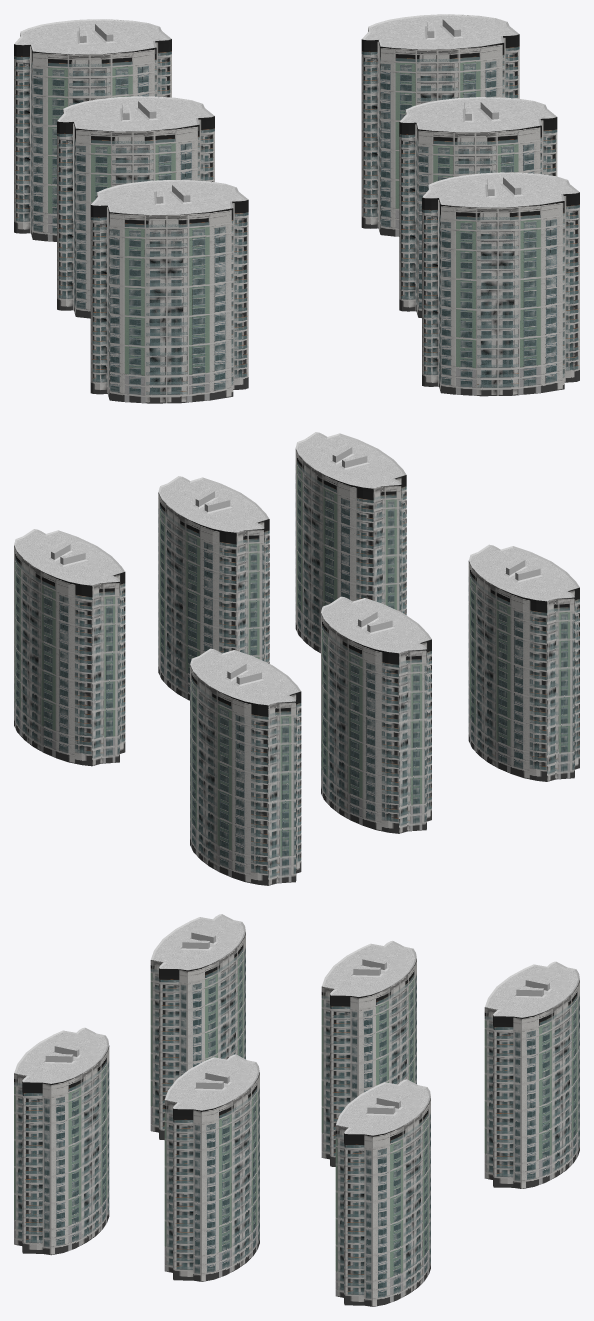
The model's file is xiaoqu2.gltf.
3 renders of one model, top to bottom at view 1: azimuth 30°, elevation 25°; view 2: azimuth 150°, elevation 25°; view 3: azimuth 270°, elevation 25°, orthographic. The views are drawn at different scales.
Visible parts, largest first — view 1: Line3117640, Line3117641, Line3117637, Line3117636, Line3117638, Line3117639; view 2: Line3117636, Line3117640, Line3117637, Line3117638, Line3117639, Line3117641; view 3: Line3117637, Line3117636, Line3117641, Line3117639, Line3117640, Line3117638.
Boxes of the visible parts, box(x1,y1,x2,y2) form: Line3117640: box(90, 180, 248, 403); Line3117641: box(422, 172, 579, 396); Line3117637: box(361, 14, 519, 236); Line3117636: box(14, 19, 171, 241); Line3117638: box(57, 96, 214, 318); Line3117639: box(399, 97, 557, 317); Line3117636: box(190, 648, 301, 885); Line3117640: box(468, 544, 579, 781); Line3117637: box(14, 529, 125, 766); Line3117638: box(321, 596, 431, 833); Line3117639: box(158, 476, 269, 700); Line3117641: box(295, 432, 406, 653); Line3117637: box(335, 1079, 430, 1306); Line3117636: box(484, 961, 579, 1188); Line3117641: box(14, 1027, 109, 1255); Line3117639: box(164, 1054, 259, 1281); Line3117640: box(150, 914, 245, 1139); Line3117638: box(321, 940, 416, 1166).
Bounding box in the file's own units: 782 × 291 × 843.
Materials: 12 (12 with a texture image).
